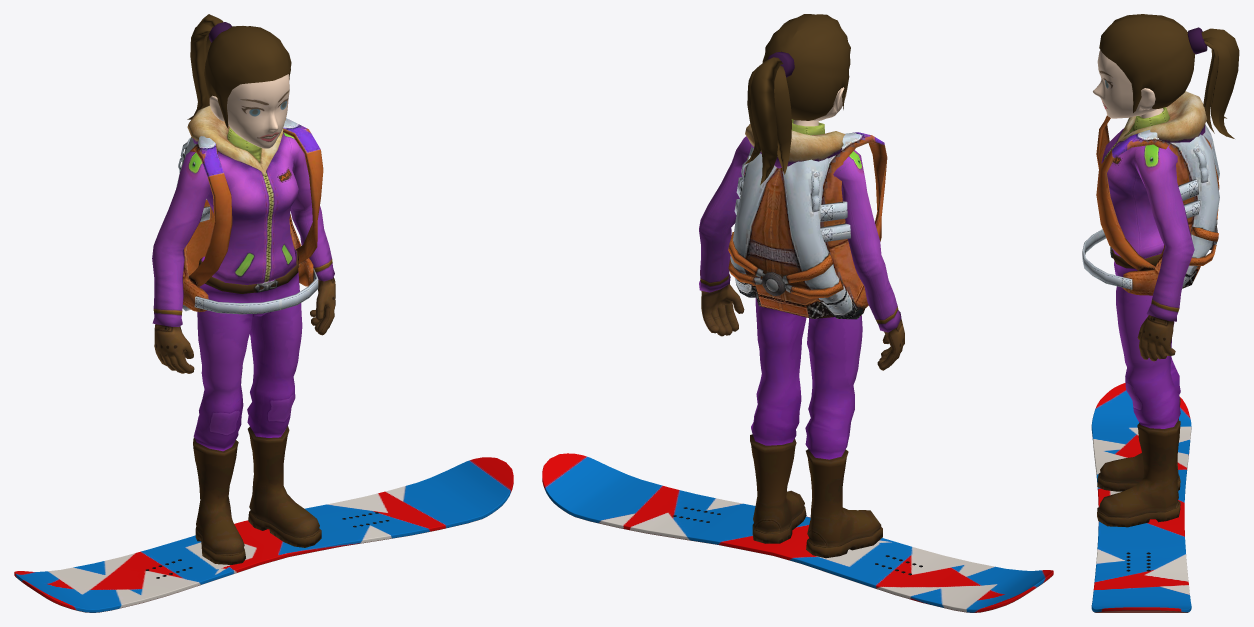
File: Landed.fbx
The picture shows the model from 3 angles, left to right: view 1: azimuth 30°, elevation 25°; view 2: azimuth 150°, elevation 25°; view 3: azimuth 270°, elevation 25°; orthographic projection. The views are drawn at different scales.
Visible parts, largest first — view 1: node_id34, node_id36, node_id70, node_id52, node_id43, node_id38; view 2: node_id70, node_id34, node_id52, node_id36, node_id43; view 3: node_id36, node_id70, node_id34, node_id52, node_id43, node_id38, node_id45.
Part boxes in pixels (x1,y1,x2,y2): node_id34: (193, 250, 321, 564); node_id36: (152, 105, 335, 373); node_id70: (14, 457, 513, 612); node_id52: (176, 118, 323, 314); node_id43: (187, 14, 291, 128); node_id38: (209, 74, 289, 148); node_id70: (542, 453, 1053, 612); node_id34: (750, 298, 882, 558); node_id52: (728, 132, 887, 319); node_id36: (699, 119, 904, 370); node_id43: (744, 14, 850, 184); node_id36: (1101, 91, 1206, 361); node_id70: (1091, 383, 1191, 612); node_id34: (1097, 246, 1180, 527); node_id52: (1082, 115, 1219, 295); node_id43: (1099, 14, 1239, 138); node_id38: (1093, 50, 1156, 118); node_id45: (1187, 27, 1207, 54).
Size of the model in its own units: 0.512 by 0.526 by 0.1503.
8 materials, 6 textured.
